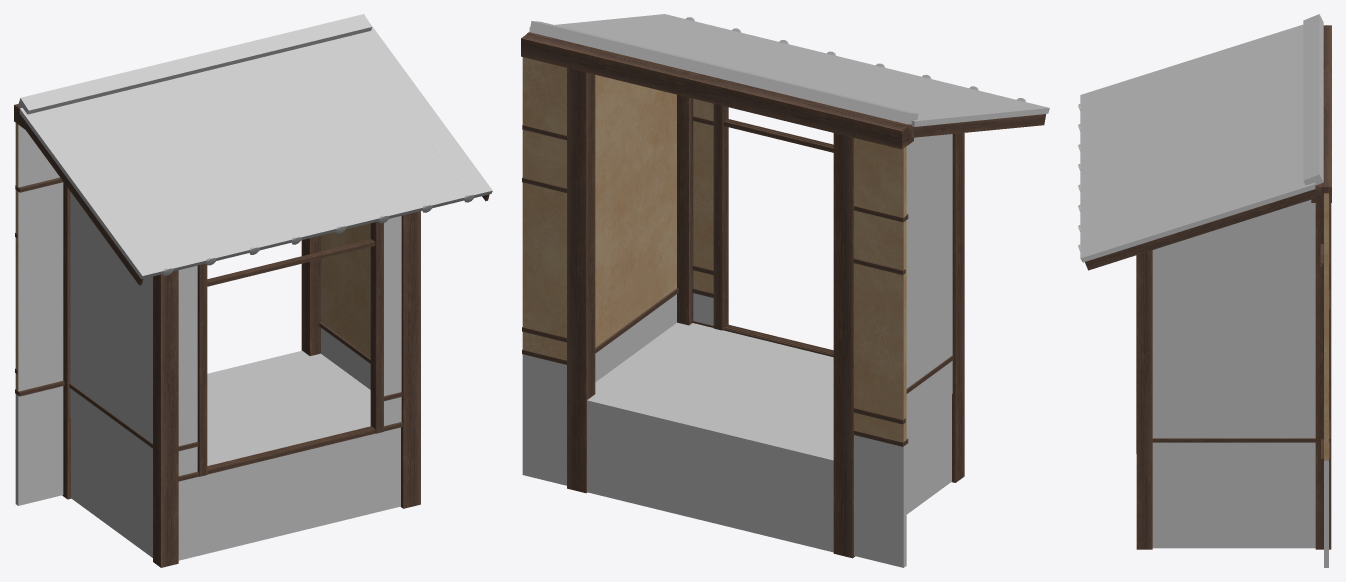
Rendered from kawara_entrance_2tc.fbx.
3 renders of one model, left to right at view 1: azimuth 30°, elevation 25°; view 2: azimuth 150°, elevation 25°; view 3: azimuth 270°, elevation 25°, orthographic. The views are drawn at different scales.
Visible parts, largest first — view 1: kawara_entrance_2tc; view 2: kawara_entrance_2tc; view 3: kawara_entrance_2tc.
Part boxes in pixels (left/top/right/bottom): kawara_entrance_2tc: left=14, top=14, right=492, bottom=567; kawara_entrance_2tc: left=521, top=14, right=1049, bottom=567; kawara_entrance_2tc: left=1078, top=14, right=1331, bottom=567.
Size of the model in its own units: 445 by 499 by 292.
